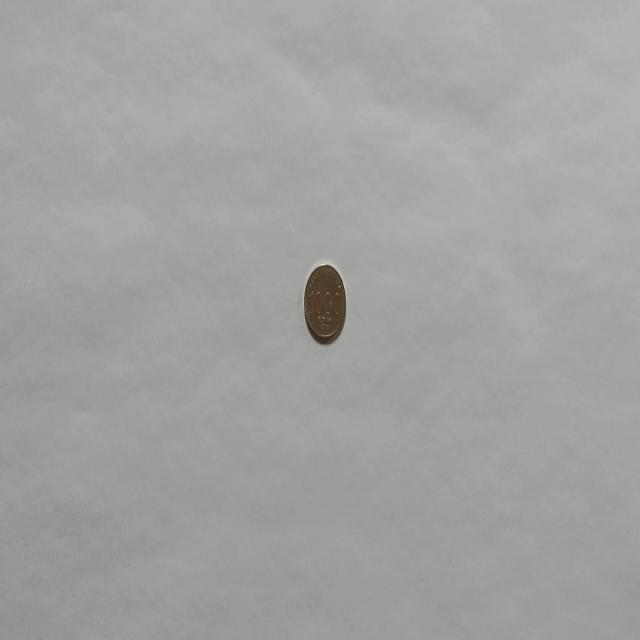seribu rupiah koin: (303, 260, 347, 345)
